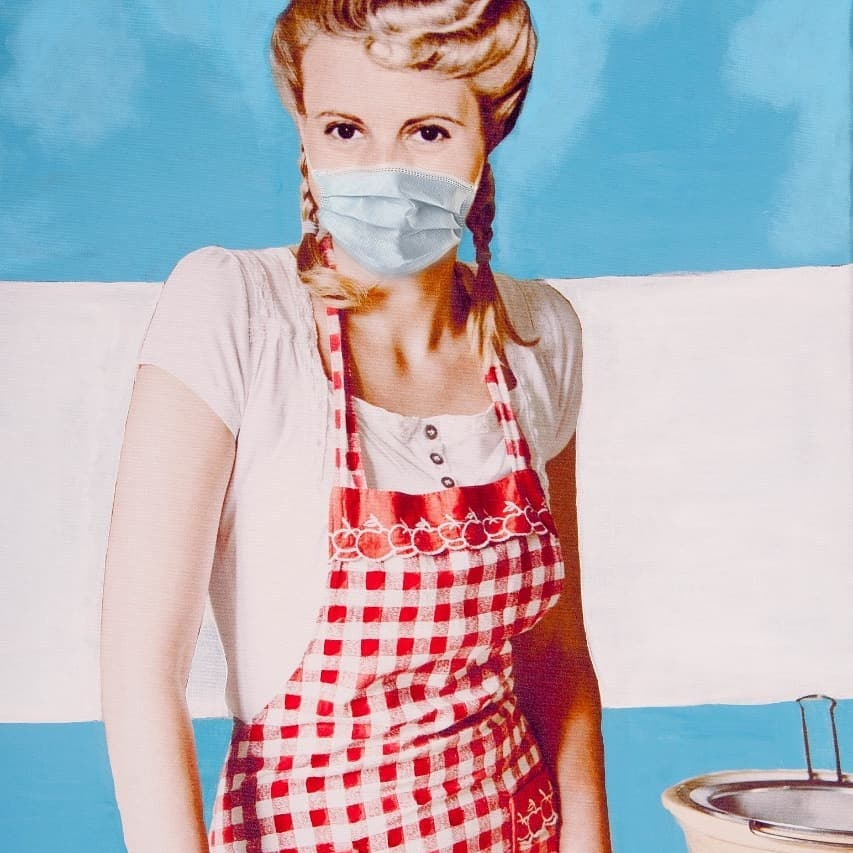barbijo: (301, 135, 494, 281)
